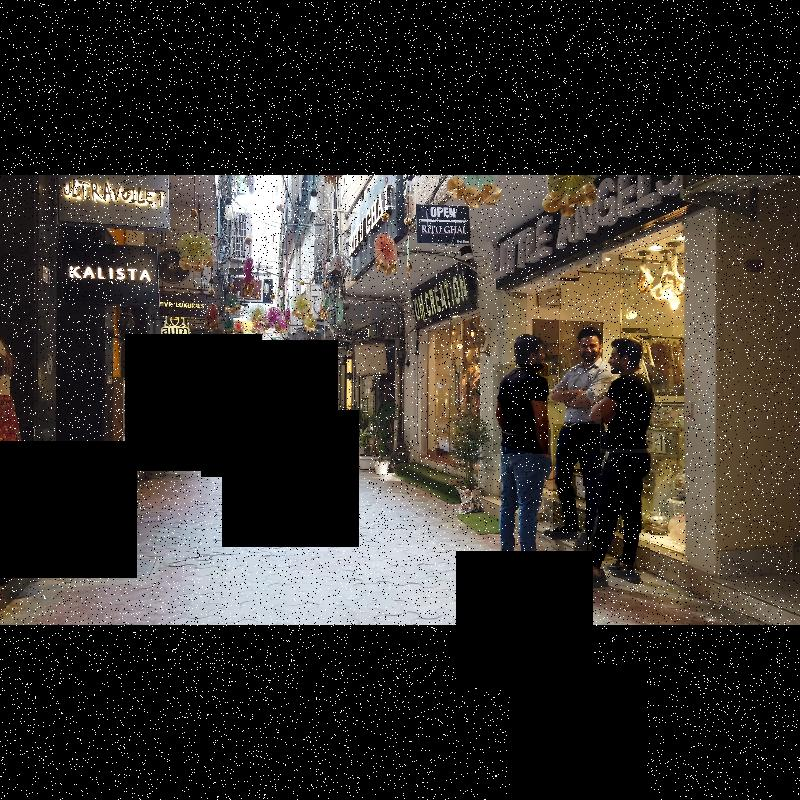Jeans: (588, 454, 650, 570), (502, 454, 547, 564)
Pant: (553, 424, 600, 532)
Tshirt: (493, 364, 548, 454), (601, 375, 652, 449)
